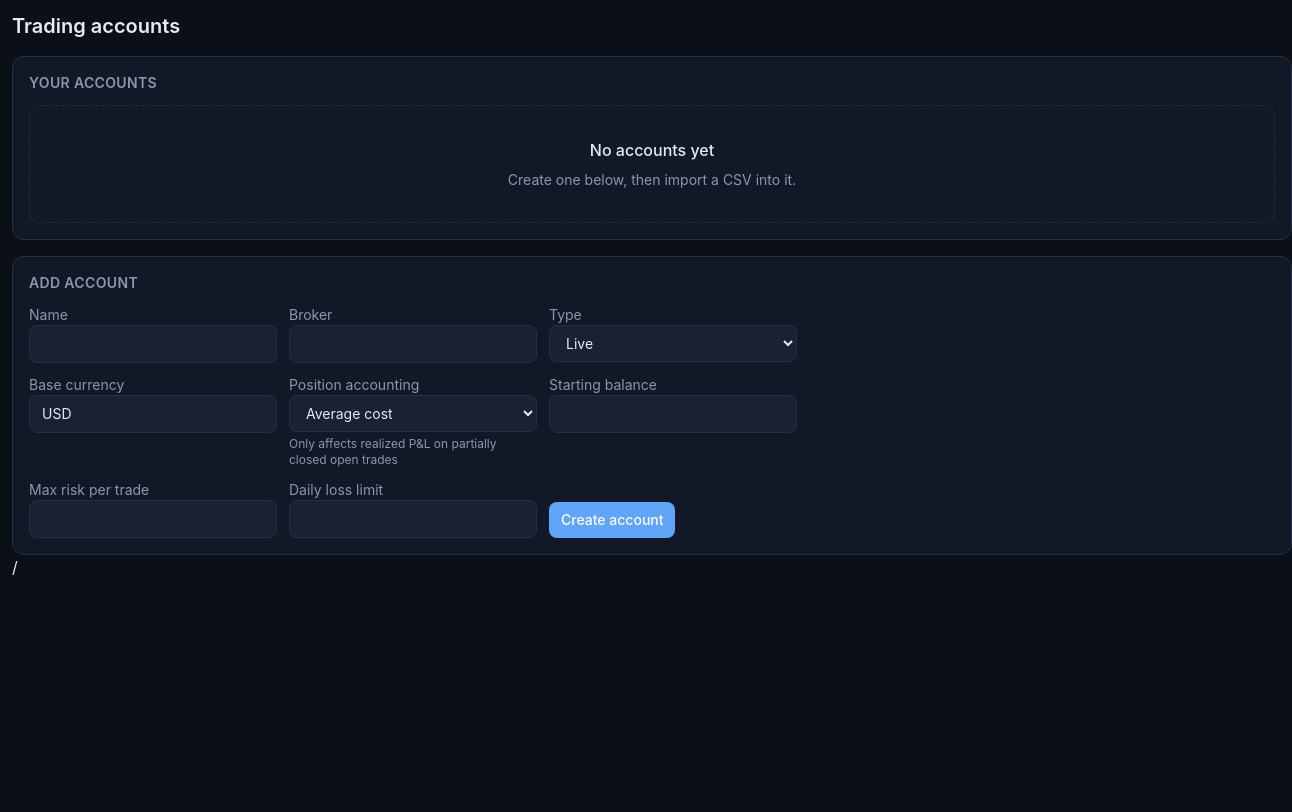
form validation › account form does not show success until the server confirms, and shows conflicts
This screenshot has width=1292, height=812.
Expected: the text "No accounts yet" is shown, 590,140 -> 714,160
Type "Main" into the field labelled "Name".
click(153, 344); type("Main")  # box 29,325 -> 277,363
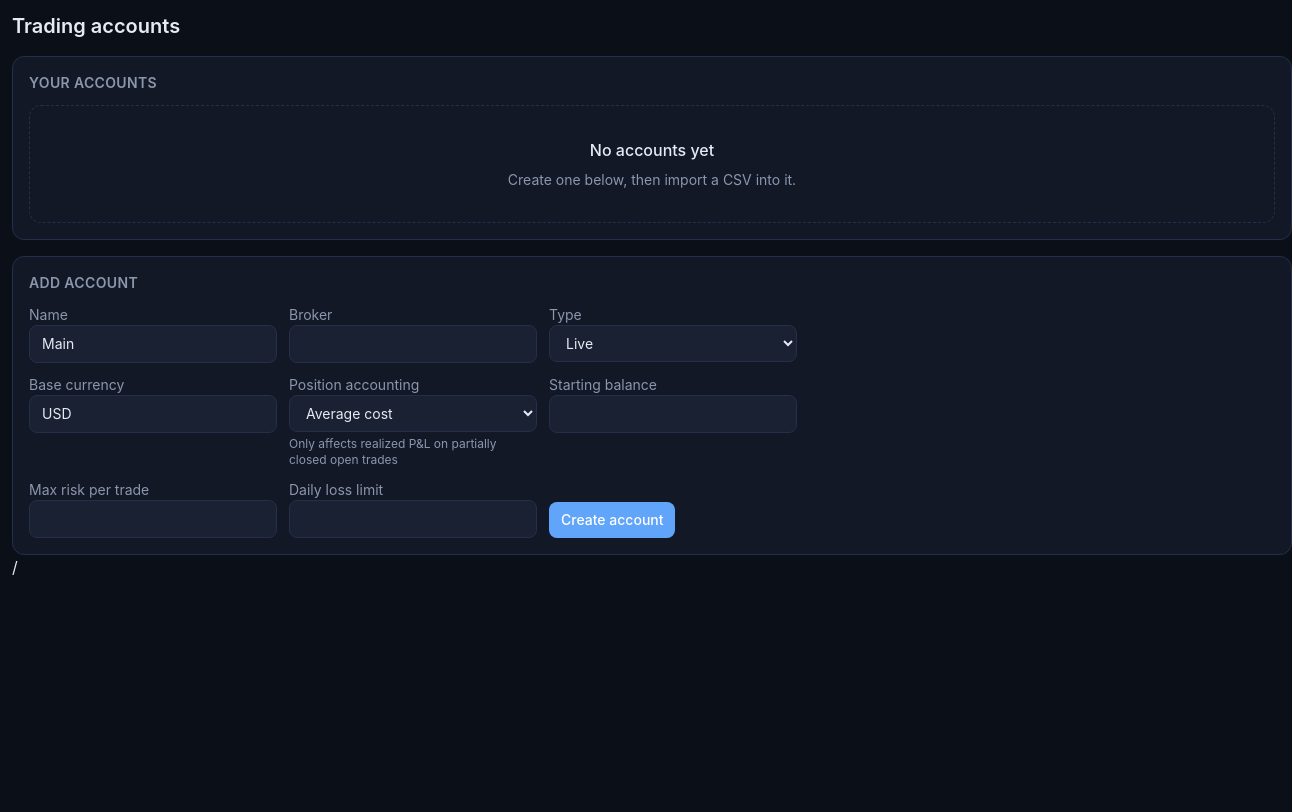
Click the button "Create account".
click(612, 520)  # box 549,502 -> 676,538
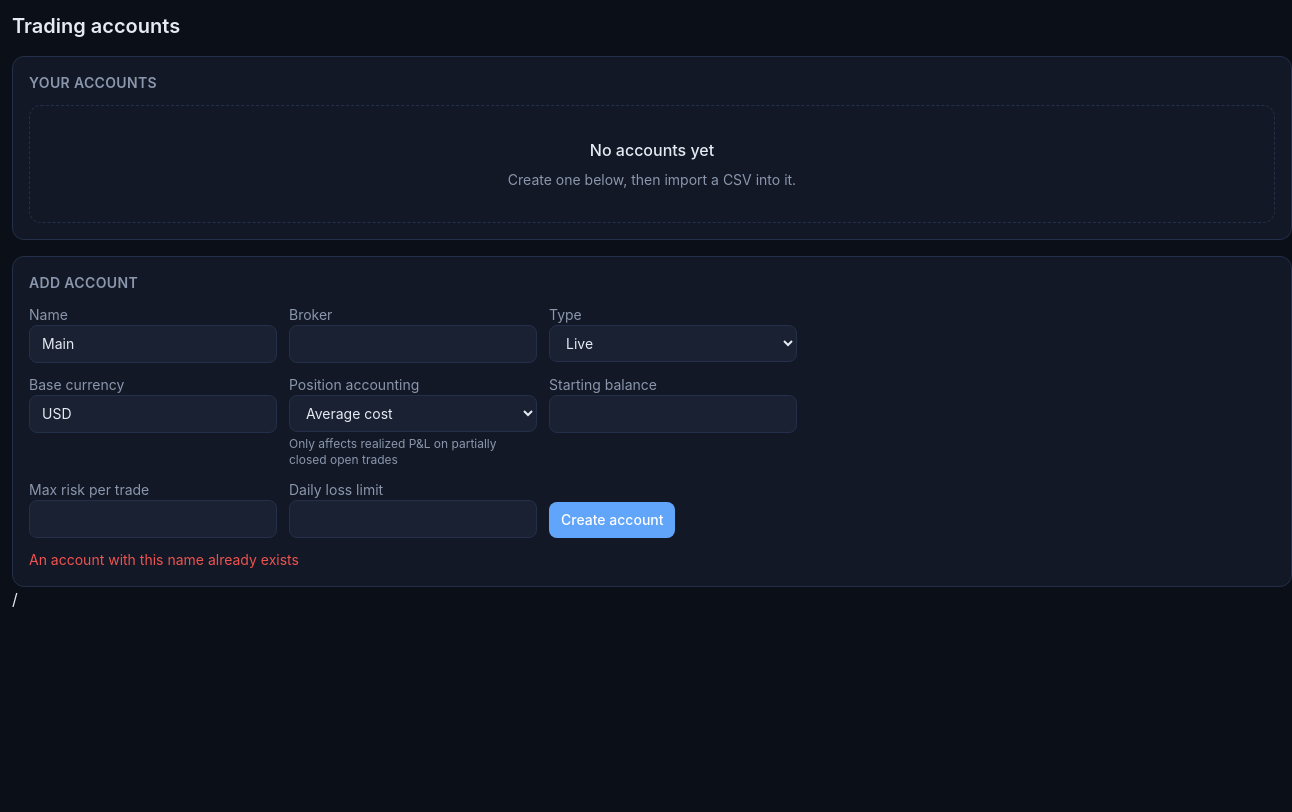
Now the message shows "already exists", box 29,551 -> 299,568
